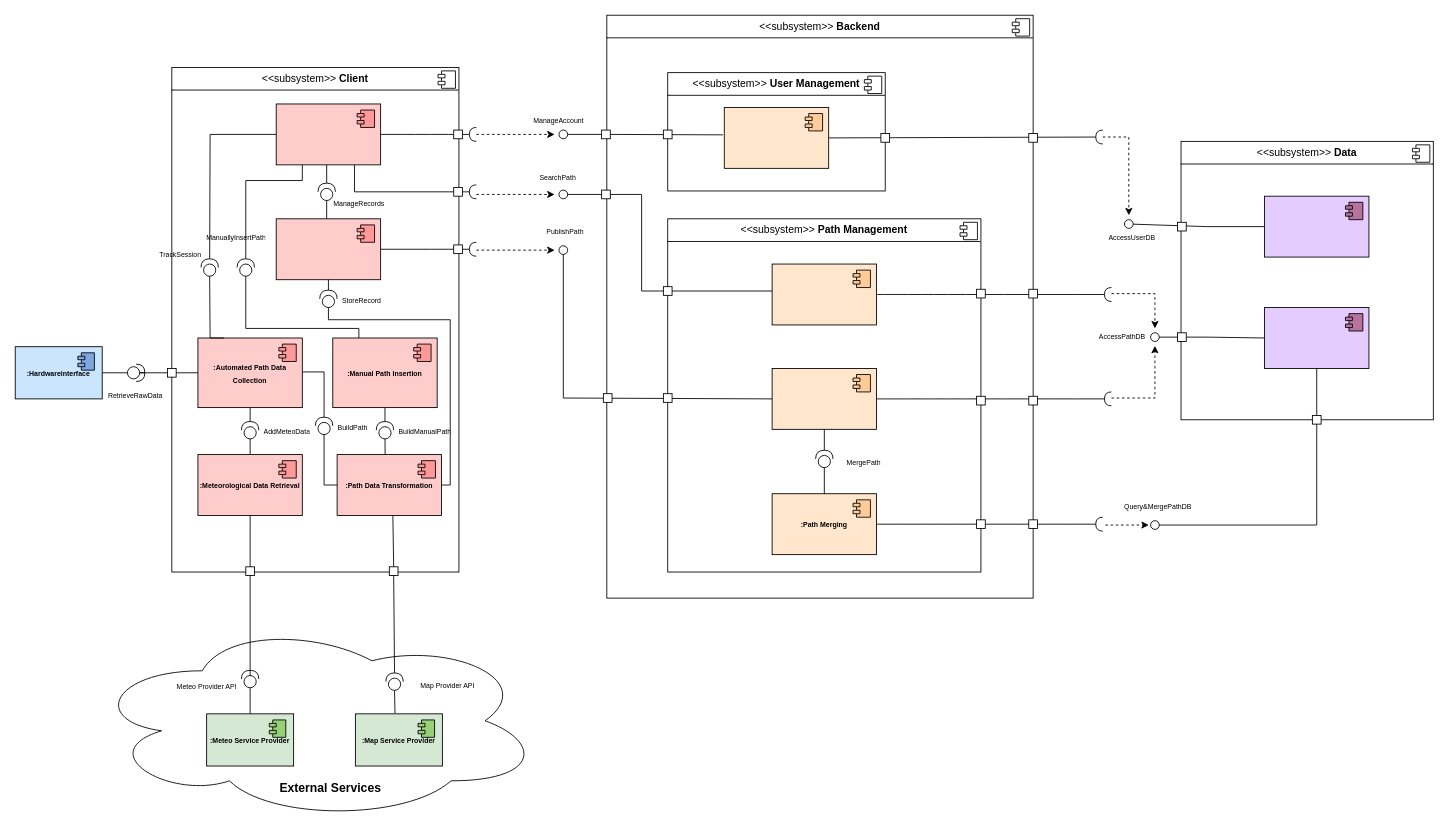
This 1449x836 diagram has some shape labels left out. The centre of each missing label's shape, as x and y in pixels:
":Inventory Handling" belongs at [328,249].
":Mobile Application" belongs at [328,134].
":Path Publication" belongs at [824,398].
":Path Research" belongs at [824,294].
":PathDBMS" belongs at [1316,337].
":User Management" belongs at [776,137].
":UserDBMS" belongs at [1316,226].
